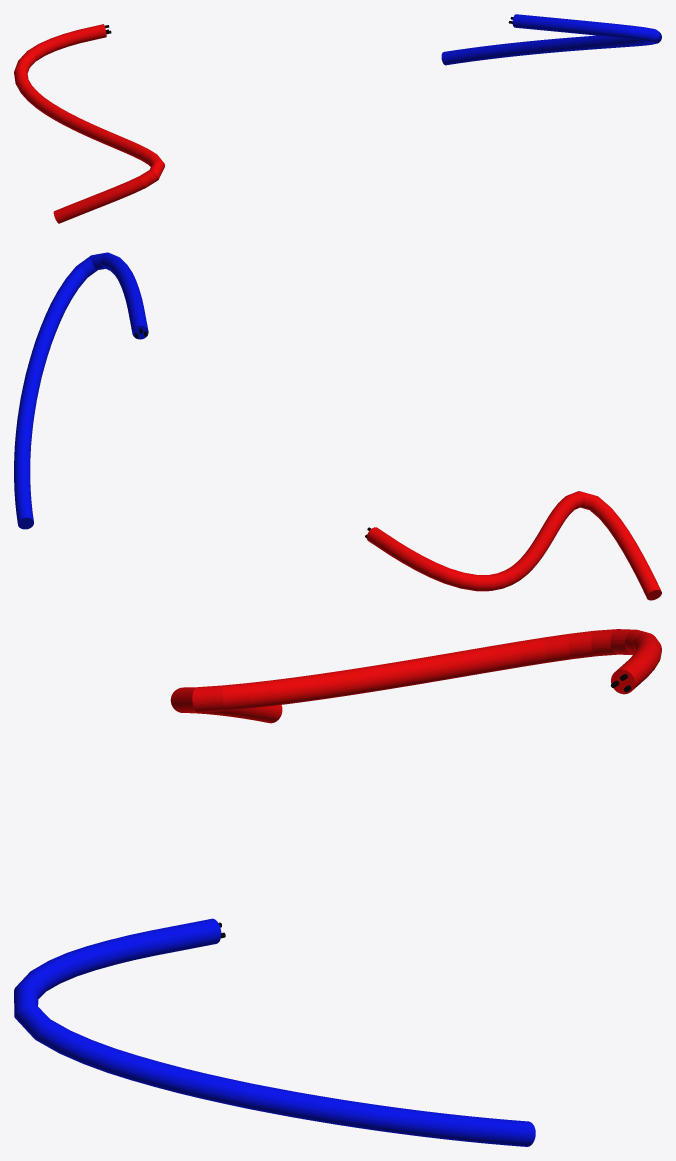
Rendered from wires.fbx.
3 renders of one model, top to bottom at view 1: azimuth 30°, elevation 25°; view 2: azimuth 150°, elevation 25°; view 3: azimuth 270°, elevation 25°, orthographic. The views are drawn at different scales.
Parts seen in each view (by area): view 1: RedWire; view 2: RedWire; view 3: RedWire.
Part boxes in pixels (x1,y1,x2,y2): RedWire: [14, 14, 661, 223]; RedWire: [14, 252, 661, 600]; RedWire: [14, 629, 661, 1146].
Size of the model in its own units: 281 by 58.63 by 152.
